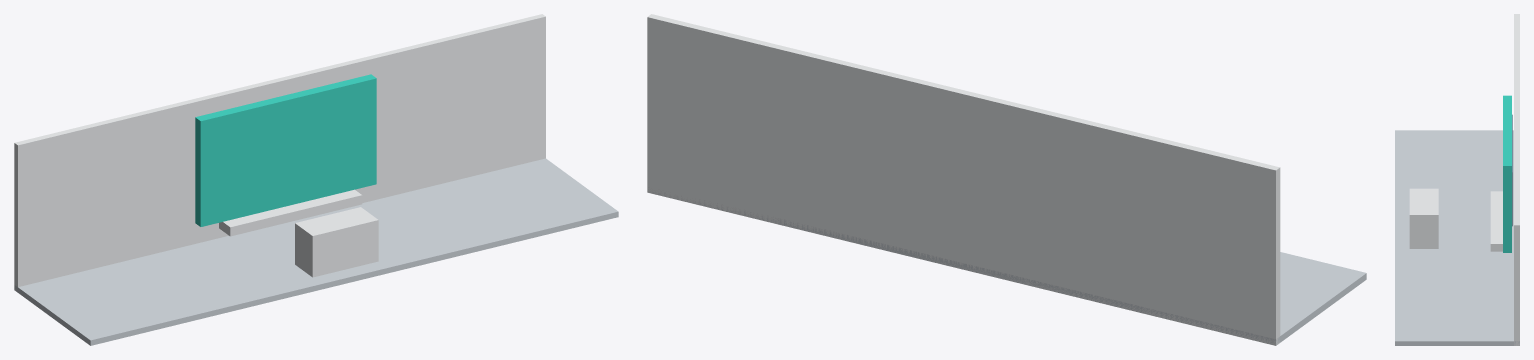
3 renders of one model, left to right at view 1: azimuth 30°, elevation 25°; view 2: azimuth 150°, elevation 25°; view 3: azimuth 270°, elevation 25°, orthographic. The views are drawn at different scales.
Visible parts, largest first — view 1: Exhibition Booth Concept; view 2: Exhibition Booth Concept; view 3: Exhibition Booth Concept.
Boxes of the visible parts, bbox=[...] form: Exhibition Booth Concept: bbox=[14, 14, 618, 345]; Exhibition Booth Concept: bbox=[647, 14, 1366, 345]; Exhibition Booth Concept: bbox=[1395, 14, 1519, 345].
Size of the model in its own units: 12 by 3.2 by 3.
